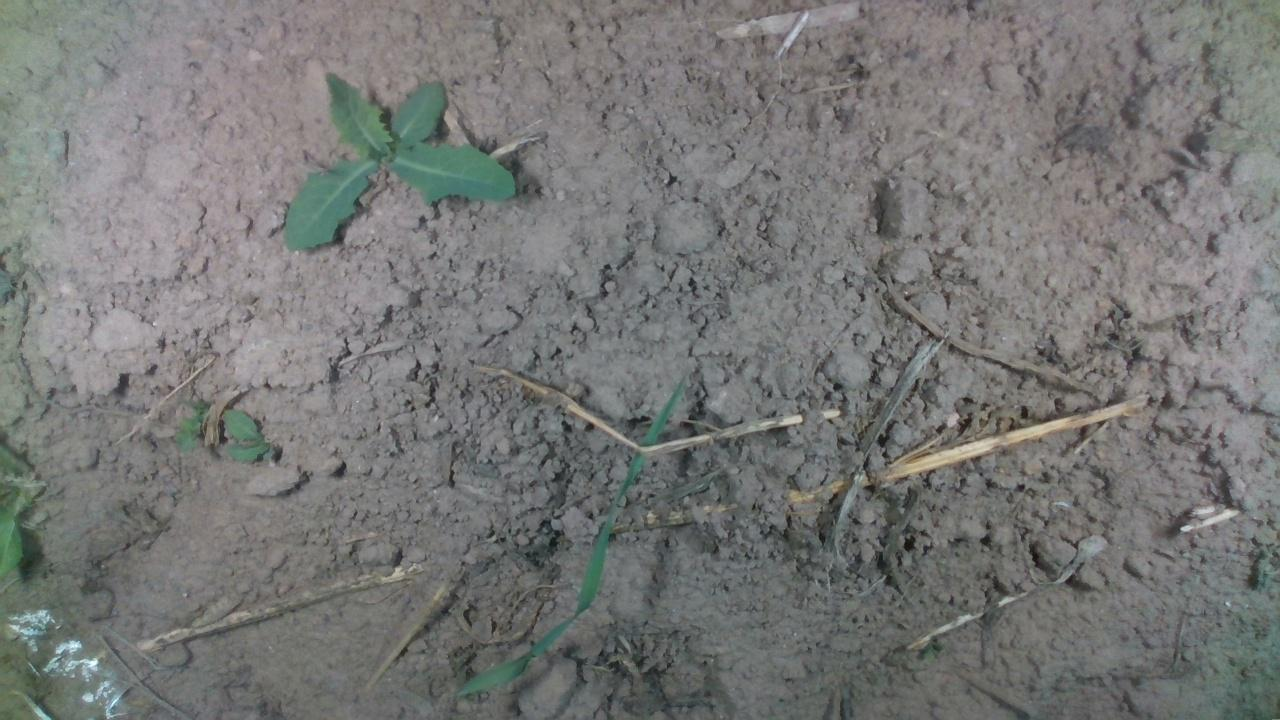weed: (279, 71, 518, 251)
